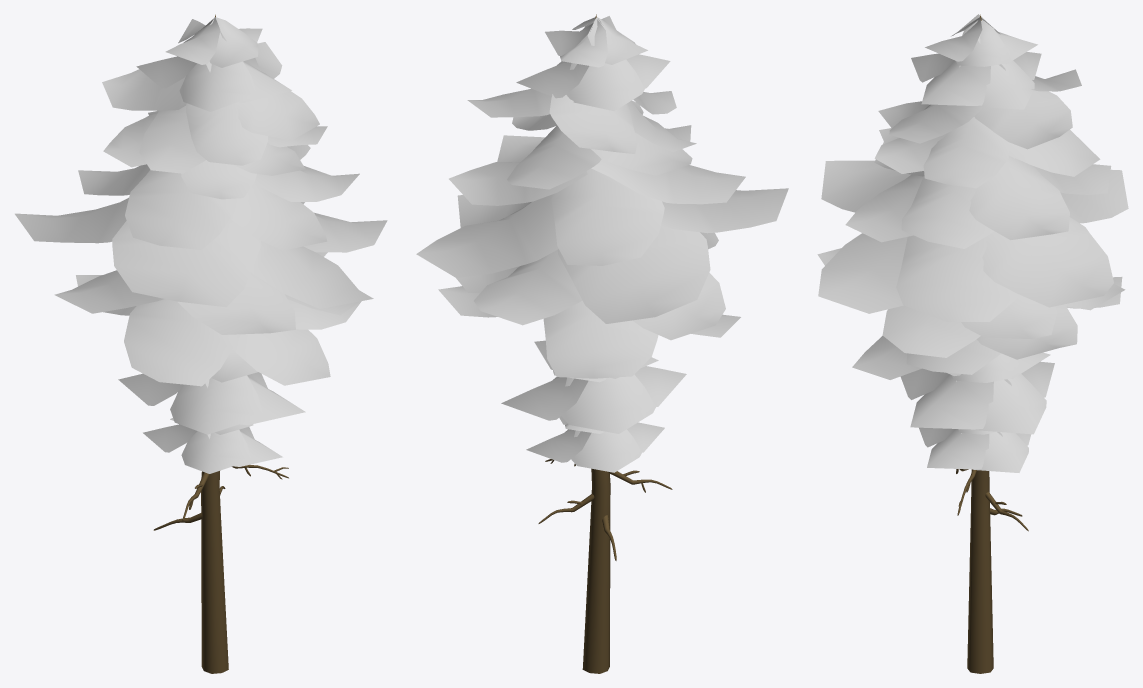
File: PineTree_2.glb
The picture shows the model from 3 angles, left to right: view 1: azimuth 30°, elevation 25°; view 2: azimuth 150°, elevation 25°; view 3: azimuth 270°, elevation 25°; orthographic projection.
Parts seen in each view (by area): view 1: PineTree_2; view 2: PineTree_2; view 3: PineTree_2.
Boxes of the visible parts, x1=… form: PineTree_2: x1=15, y1=14, x2=387, y2=673; PineTree_2: x1=416, y1=14, x2=788, y2=673; PineTree_2: x1=817, y1=14, x2=1128, y2=673.
Bounding box in the file's own units: 3.28 × 6.91 × 2.98.
